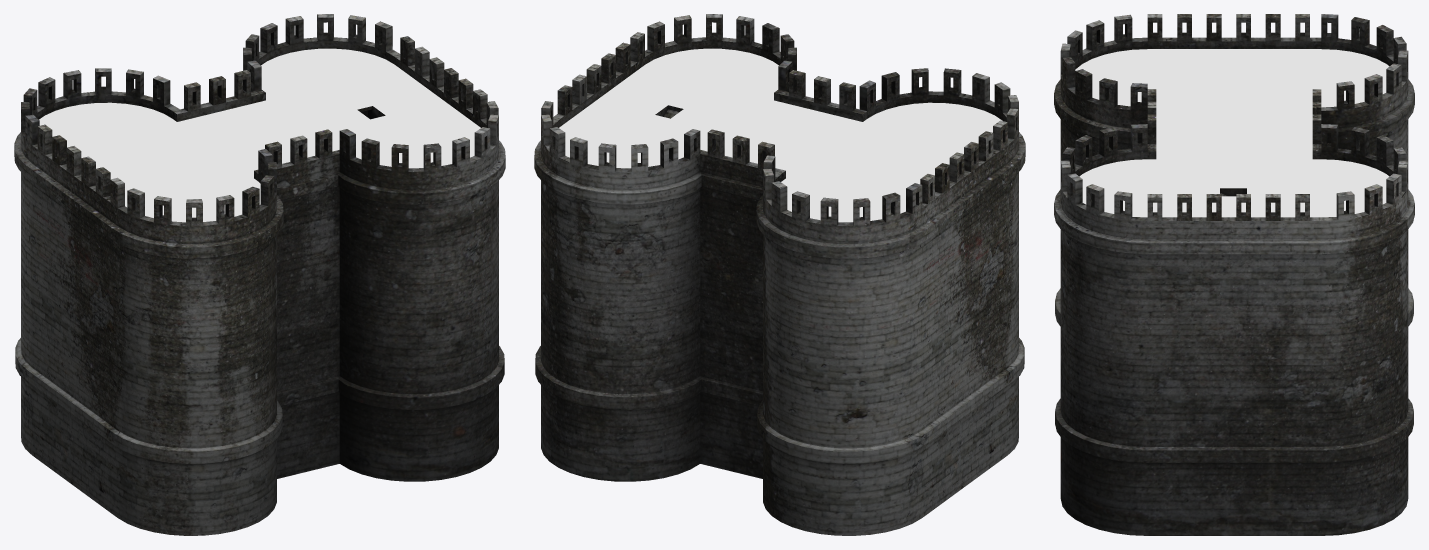
The model's file is castle.glb.
The picture shows the model from 3 angles, left to right: view 1: azimuth 30°, elevation 25°; view 2: azimuth 150°, elevation 25°; view 3: azimuth 270°, elevation 25°; orthographic projection.
Parts seen in each view (by area): view 1: Castle, CastleTop.001; view 2: Castle, CastleTop.001; view 3: Castle, CastleTop.001.
Part boxes in pixels (x1,y1,x2,y2): Castle: [14, 14, 505, 535]; CastleTop.001: [39, 48, 480, 222]; Castle: [534, 14, 1025, 535]; CastleTop.001: [559, 48, 1002, 222]; Castle: [1054, 14, 1414, 535]; CastleTop.001: [1075, 49, 1389, 217].
Size of the model in its own units: 5.15 by 4.3 by 4.15.
4 materials, 2 textured.
